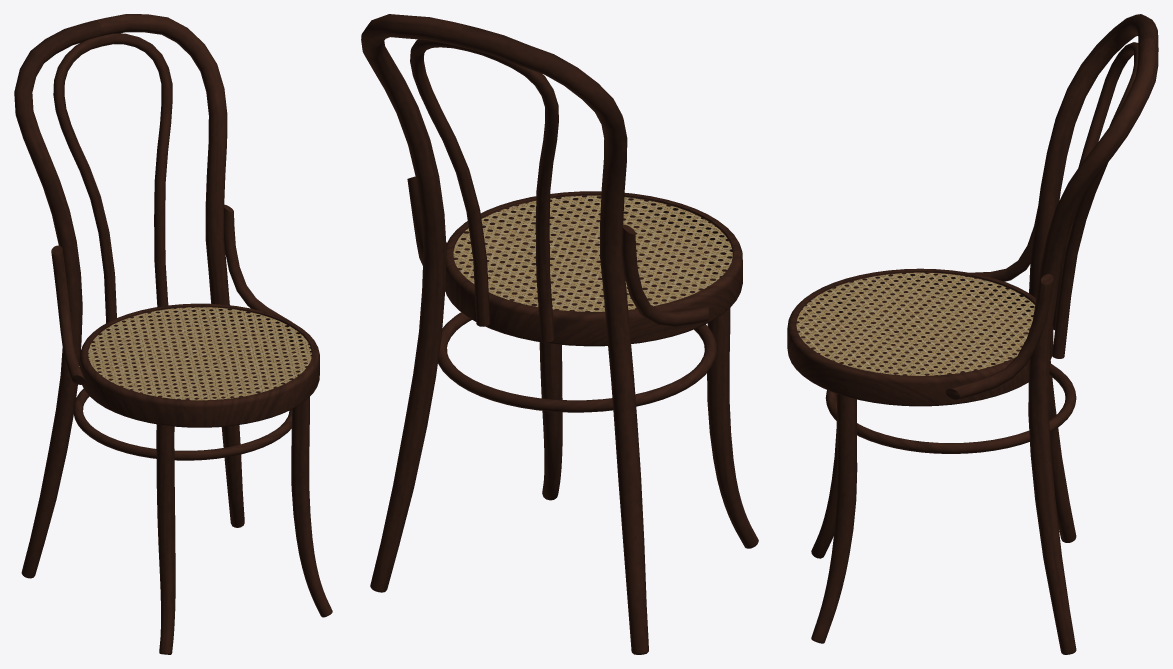
Rendered from chair_35_01.001.fbx.
3 renders of one model, left to right at view 1: azimuth 30°, elevation 25°; view 2: azimuth 150°, elevation 25°; view 3: azimuth 270°, elevation 25°, orthographic. The views are drawn at different scales.
Visible parts, largest first — view 1: chair_35_01.001; view 2: chair_35_01.001; view 3: chair_35_01.001.
Boxes of the visible parts, <box> form: chair_35_01.001: <box>14,14,332,654</box>; chair_35_01.001: <box>361,14,758,654</box>; chair_35_01.001: <box>787,14,1158,654</box>.
Size of the model in its own units: 41.34 by 90.44 by 54.16.
1 material, 1 textured.
